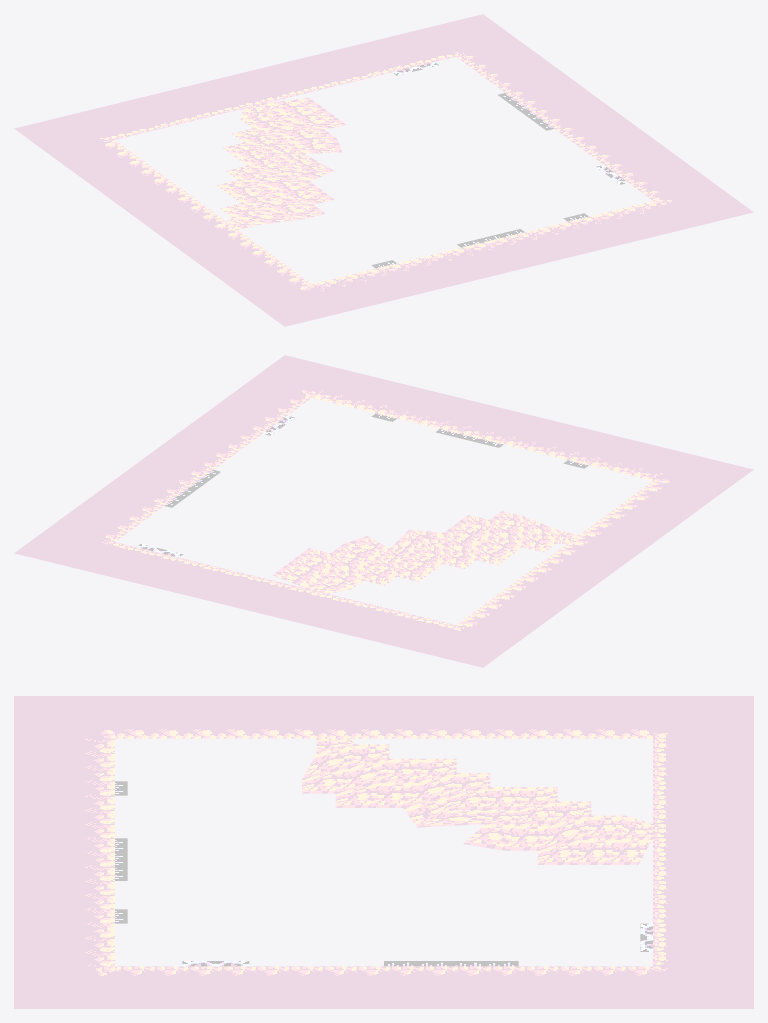
File: Coldth 1.glb
3 views of the same model, one above another, from view 1: azimuth 30°, elevation 25°; view 2: azimuth 150°, elevation 25°; view 3: azimuth 270°, elevation 25° (orthographic). The views are drawn at different scales.
Parts seen in each view (by area): view 1: Cube; view 2: Cube; view 3: Cube.
Part boxes in pixels (<box>): Cube: <box>14,14,753,326</box>; Cube: <box>14,355,753,667</box>; Cube: <box>14,696,753,1008</box>.
Bounding box in the file's own units: 11 × 0 × 11.
